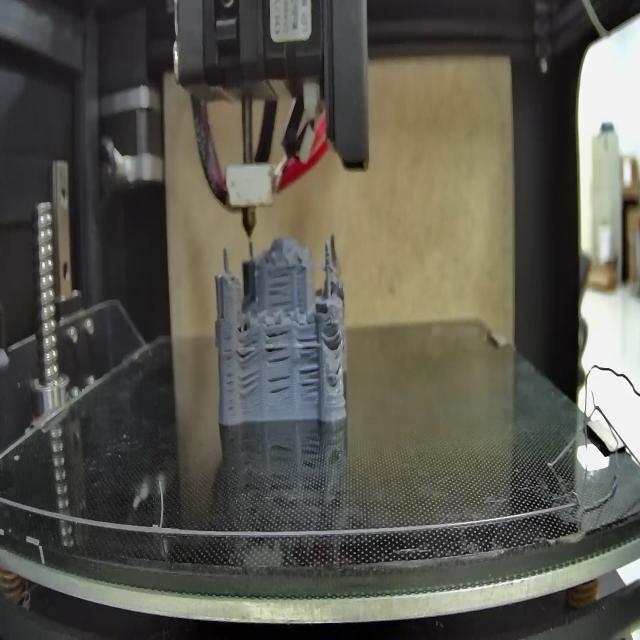cracks: (296, 334, 320, 397), (264, 270, 294, 308), (222, 335, 235, 419), (266, 329, 292, 366), (236, 334, 258, 364), (322, 323, 346, 350), (268, 374, 294, 398), (324, 356, 342, 389), (238, 372, 259, 398)
